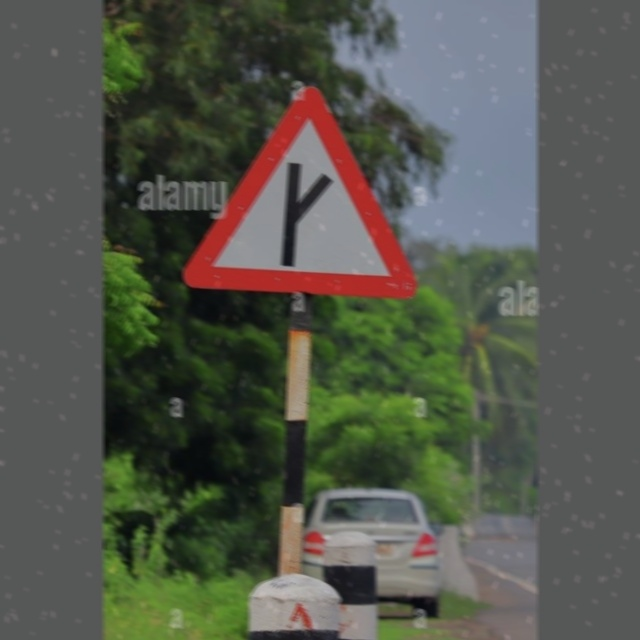Y_Intersection: (183, 83, 427, 304)
